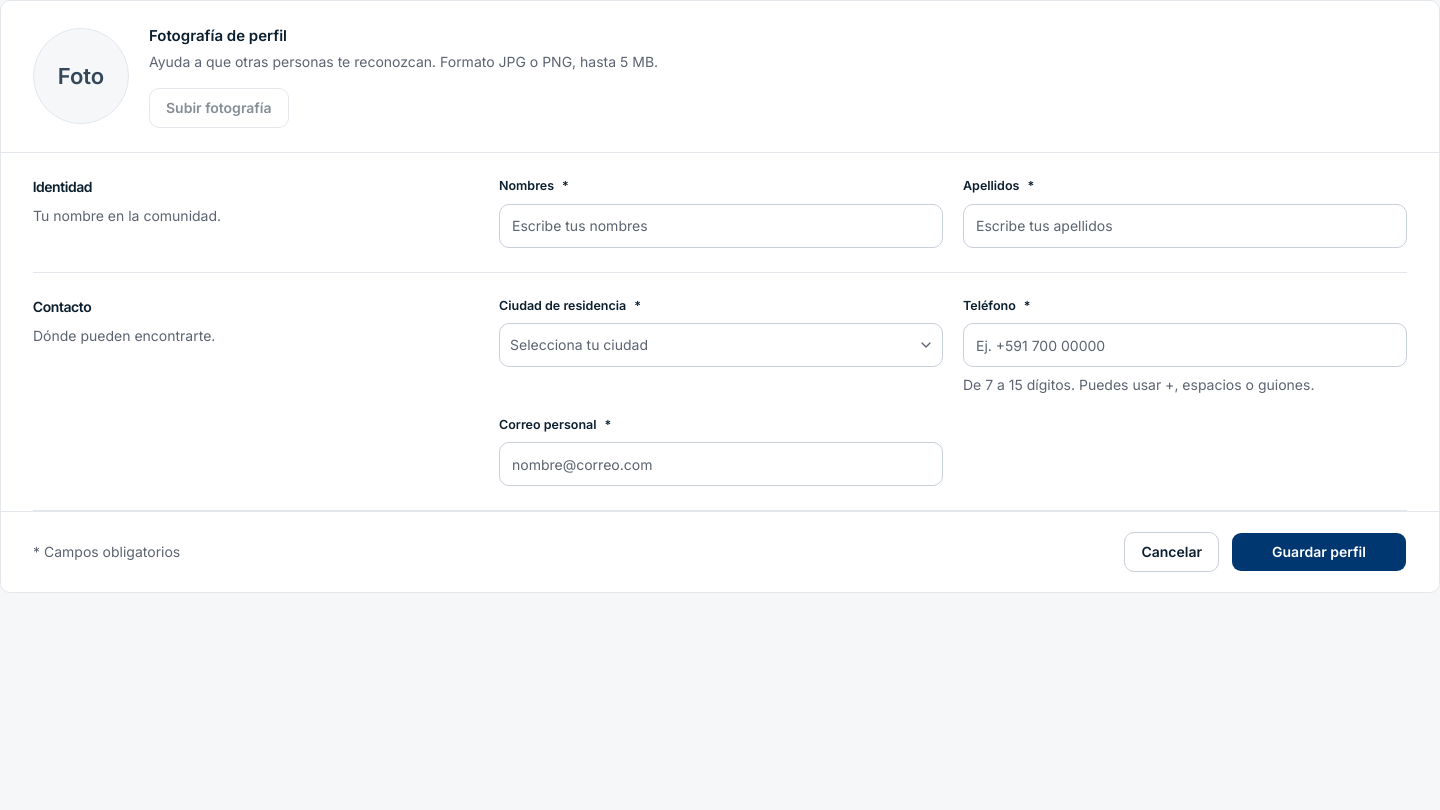
PersonalInfoForm › does not let the phone have more than 15 digits
Step 1. Type "215478963214587999" into the field labelled "Teléfono *" → (1185, 345), box [963,323,1407,367]
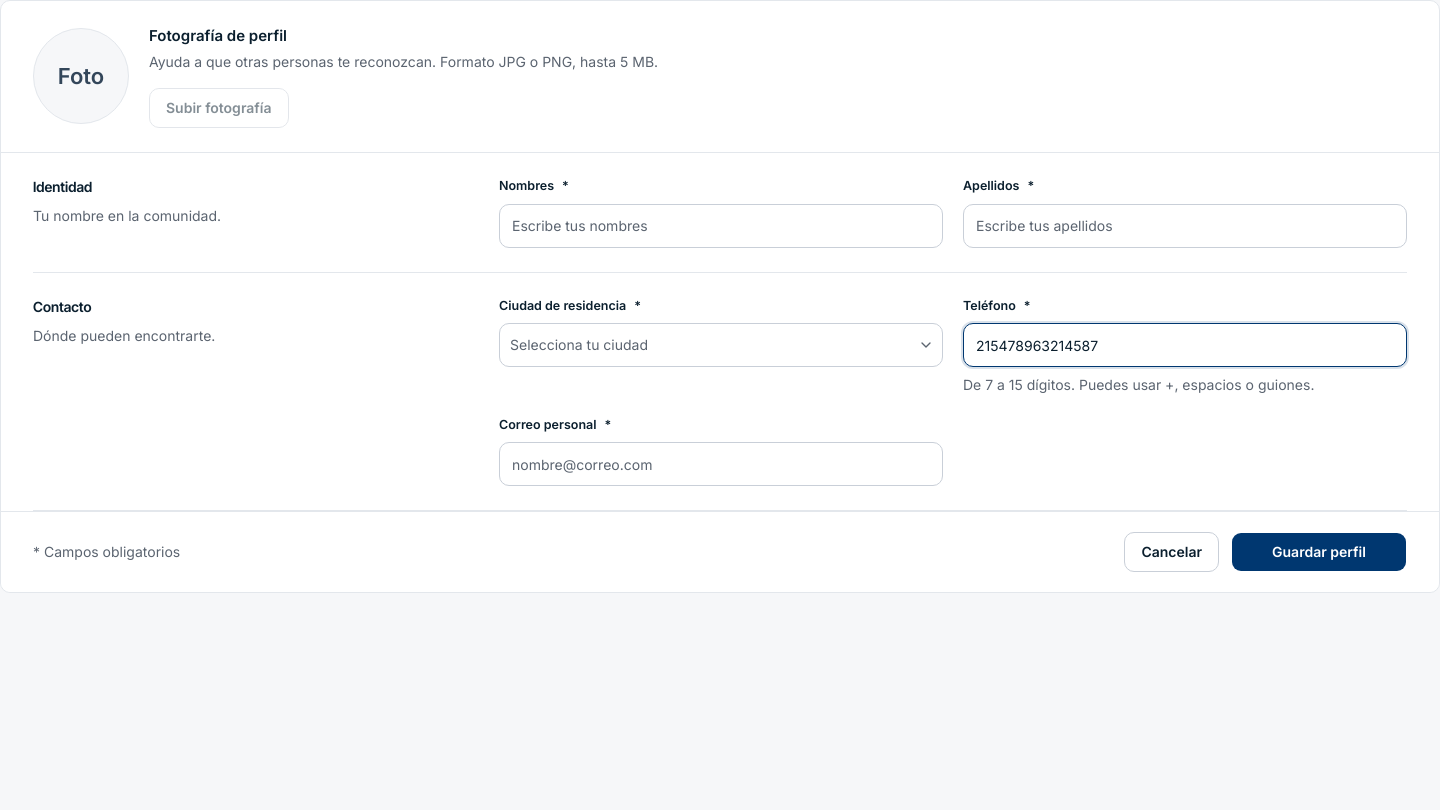
Now the field labelled "Teléfono *" holds "215478963214587", box [963,323,1407,367]
